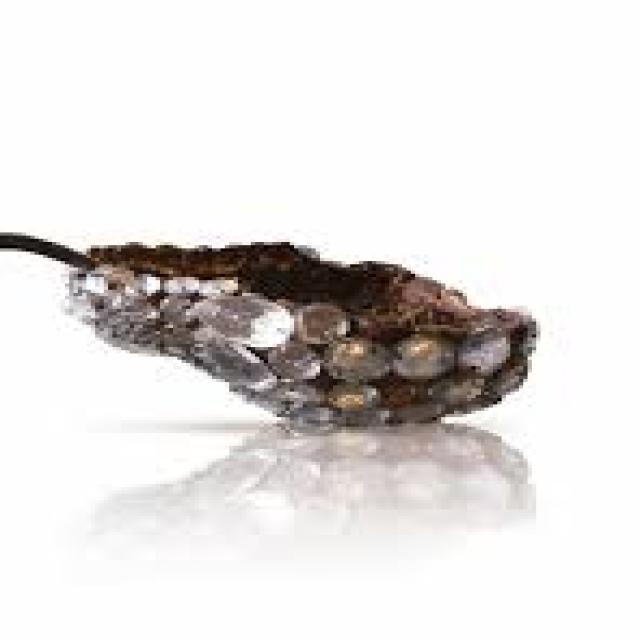organic: (58, 263, 536, 452)
